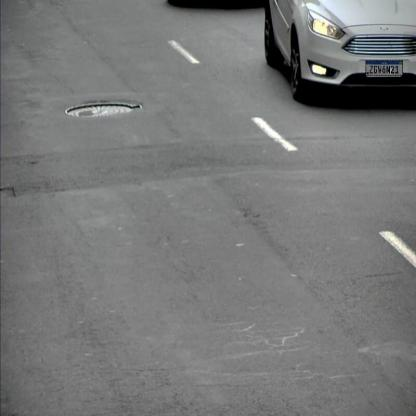PlacaM: (366, 60, 403, 76)
